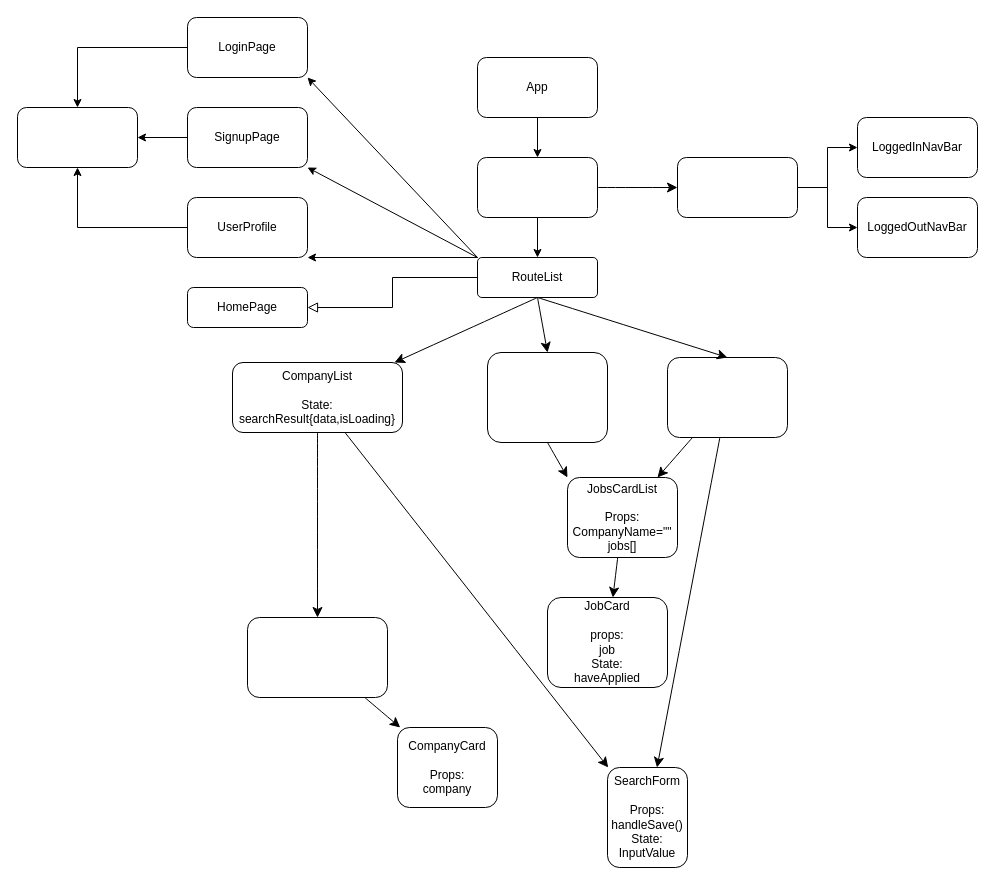
Some shapes in this 995 by 885 pixel diagram are drawn without their labels. Each missing label, with the centre of its shape:
Alert: the point at 77,137
Comp anyCardList Props: companies[]: the point at 317,657
CompanyDetail State: Jobs{data,isLoading}: the point at 547,397
Context: the point at 537,187
JobsList State: Jobs:{data,isLoading}: the point at 727,397
NavBar: the point at 737,187
